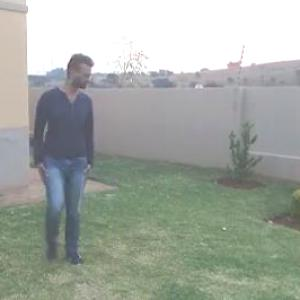follow: (30, 41, 112, 284)
